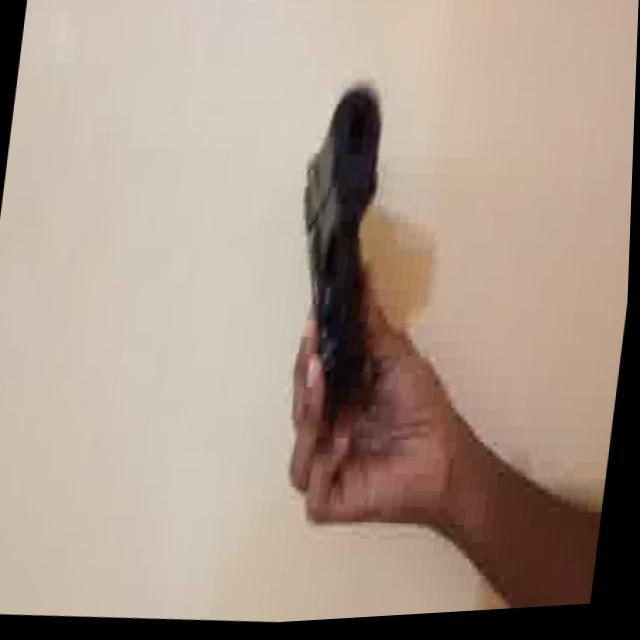weapon: (278, 81, 414, 422)
